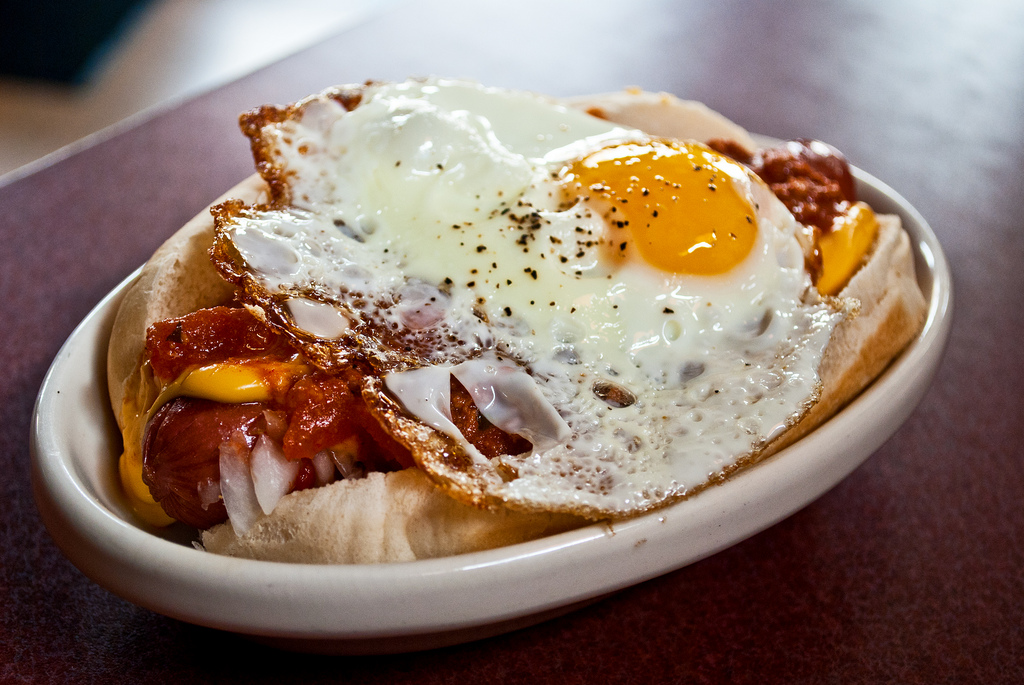fried egg: (261, 85, 808, 419)
slice of bread: (222, 468, 569, 575), (110, 153, 256, 382), (814, 207, 935, 410)
